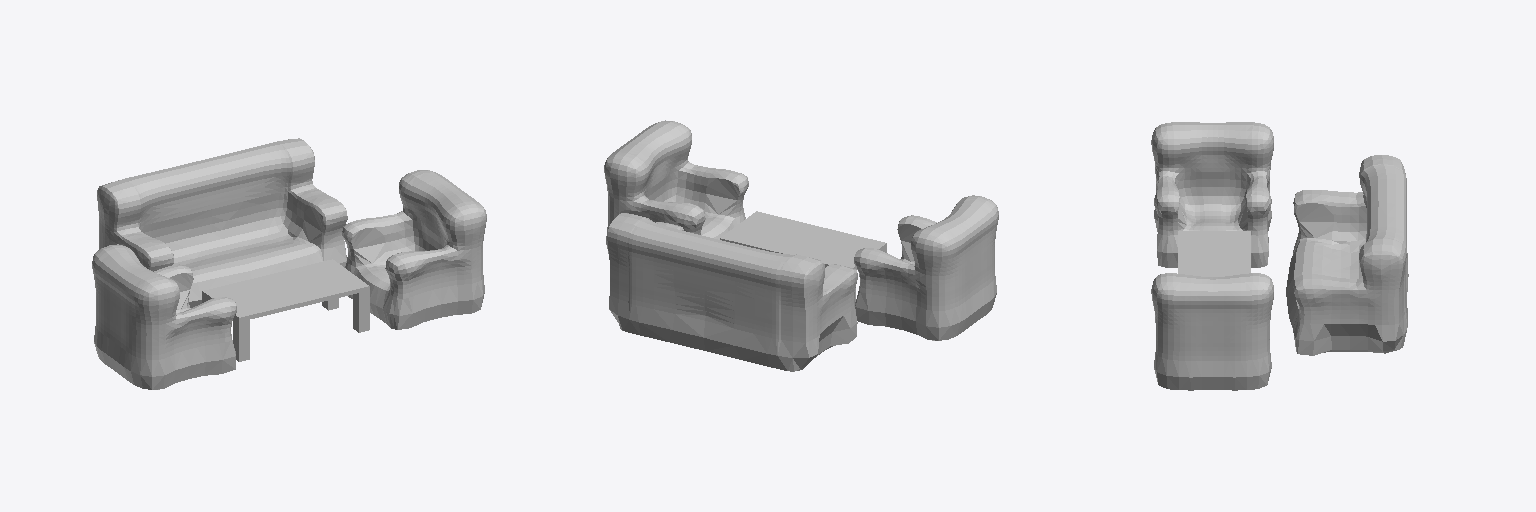
File: Krzeslo4.obj
3 views of the same model, side by side, from view 1: azimuth 30°, elevation 25°; view 2: azimuth 150°, elevation 25°; view 3: azimuth 270°, elevation 25° (orthographic).
Parts seen in each view (by area): view 1: Fotel.003_Cube.016; view 2: Fotel.003_Cube.016; view 3: Fotel.003_Cube.016.
Boxes of the visible parts, x1=… form: Fotel.003_Cube.016: x1=92, y1=138, x2=486, y2=389; Fotel.003_Cube.016: x1=604, y1=120, x2=998, y2=371; Fotel.003_Cube.016: x1=1151, y1=122, x2=1408, y2=390.
Bounding box in the file's own units: 7.36 × 2.2 × 4.63.